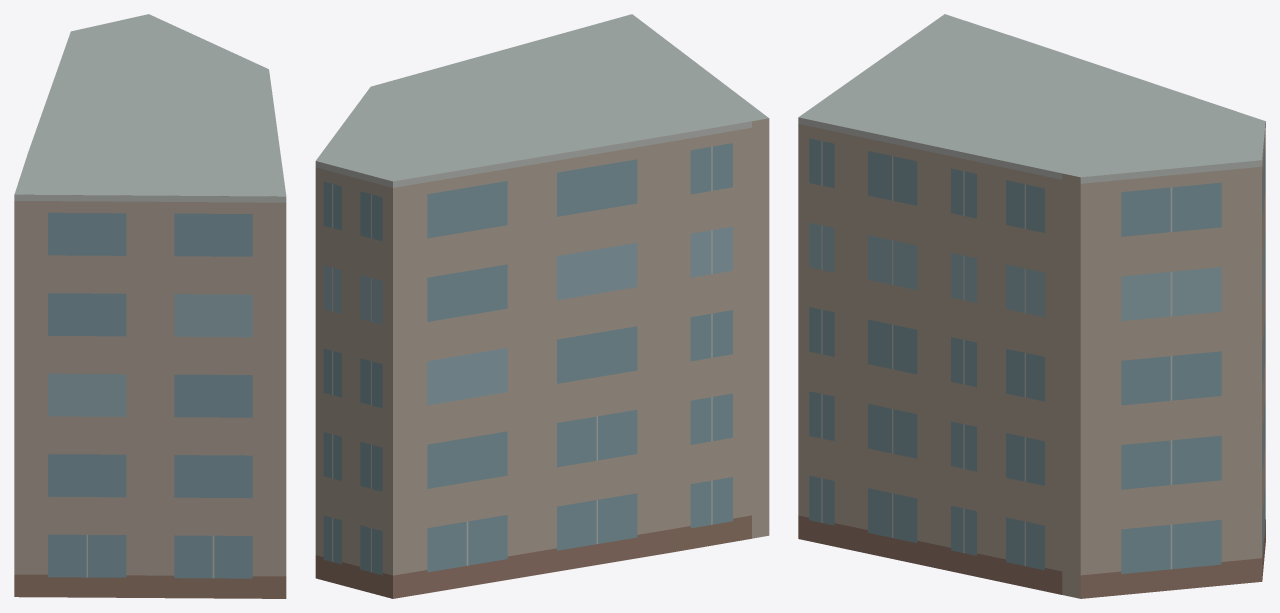
File: survey-upis-32895529.glb
3 renders of one model, left to right at view 1: azimuth 30°, elevation 25°; view 2: azimuth 150°, elevation 25°; view 3: azimuth 270°, elevation 25°, orthographic. The views are drawn at different scales.
Parts seen in each view (by area): view 1: survey-upis-32895529.tmp; view 2: survey-upis-32895529.tmp; view 3: survey-upis-32895529.tmp.
Boxes of the visible parts, bbox=[...] form: survey-upis-32895529.tmp: bbox=[14, 14, 286, 598]; survey-upis-32895529.tmp: bbox=[315, 14, 769, 598]; survey-upis-32895529.tmp: bbox=[798, 14, 1265, 598].
Size of the model in its own units: 13.22 by 15.9 by 15.99.
